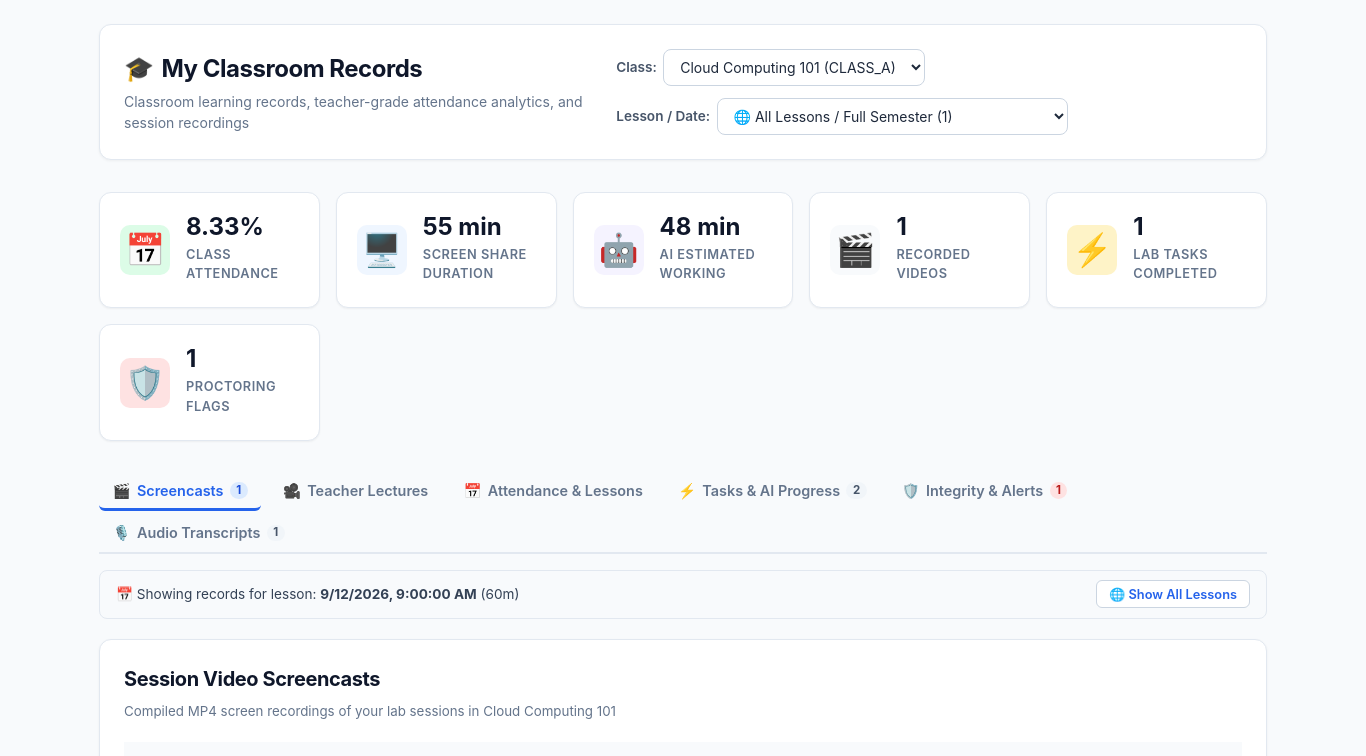
Test: StudentRecordsView Component › switches to Integrity & Alerts tab and displays irregularity logs
What coordinates should you click on to do the following:
click the tab "🛡️ Integrity & Alerts 1"
I would click on:
 (984, 492)
Its box is x1=888 y1=473 x2=1081 y2=511.
(page scrolled)
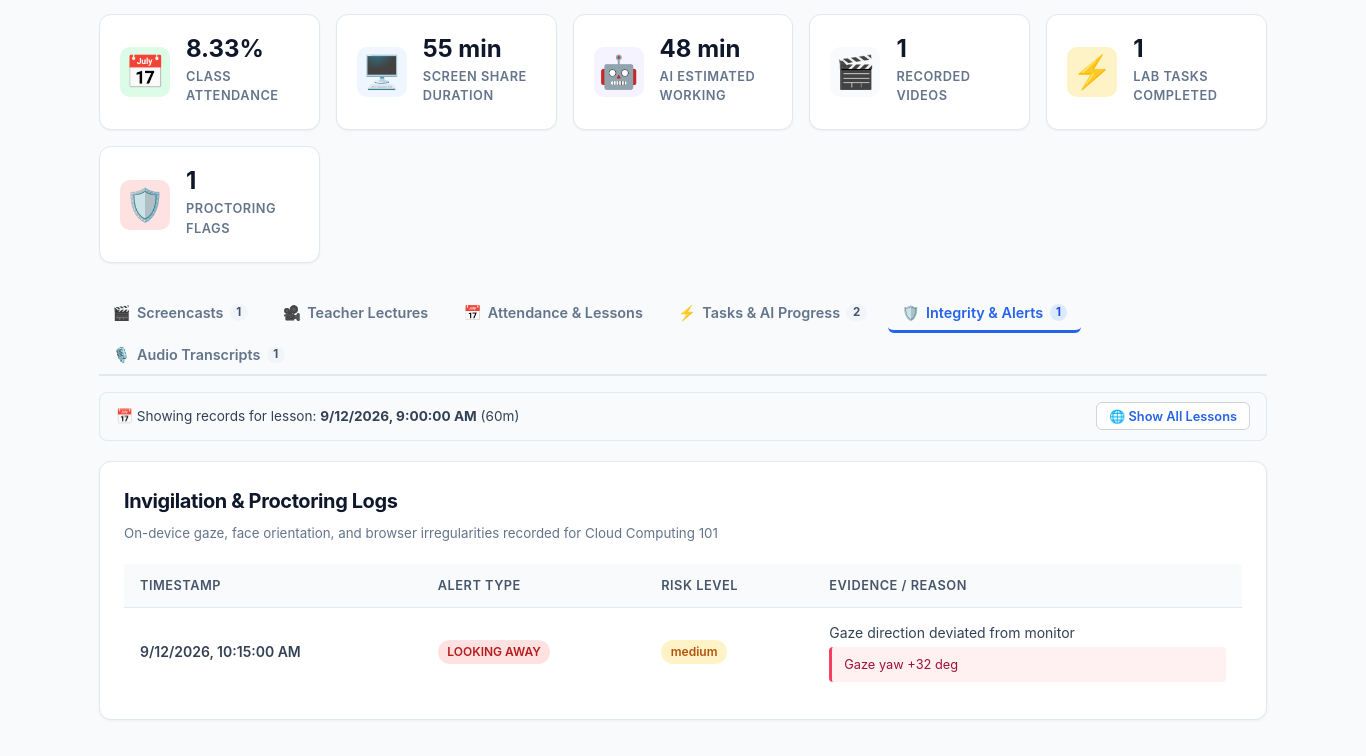
Check: the heading "Invigilation & Proctoring Logs" is shown, box x1=124 y1=489 x2=398 y2=513
Check: the text "LOOKING AWAY" is shown, box x1=438 y1=640 x2=550 y2=664
Check: the text "Gaze direction deviated from monitor" is shown, box x1=829 y1=624 x2=1075 y2=641
